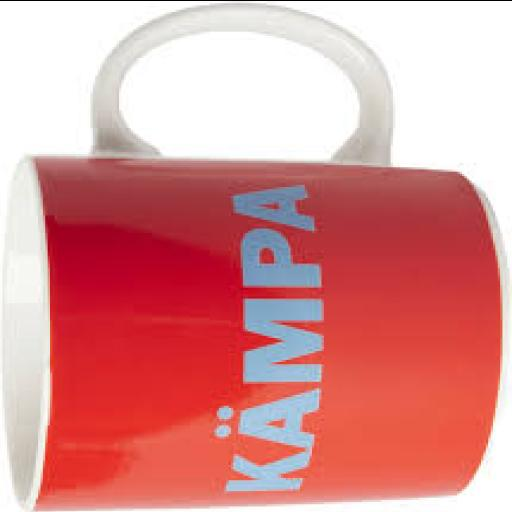red mug: (3, 5, 504, 507)
